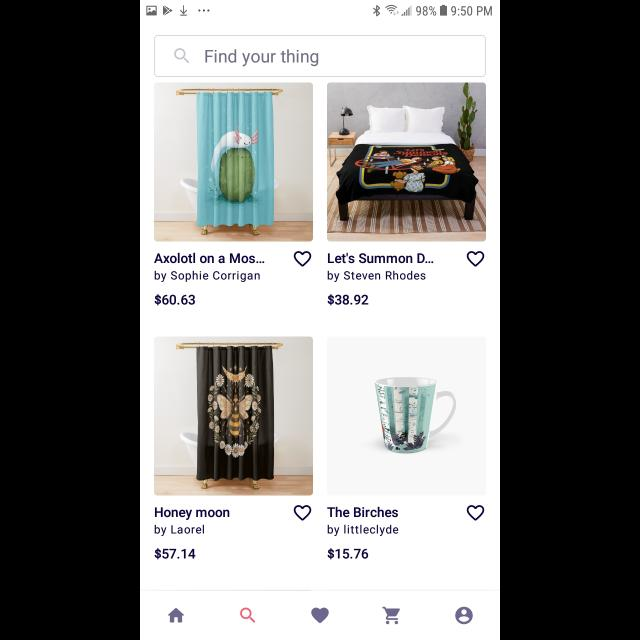icon: (382, 606, 400, 624), (455, 607, 473, 625), (294, 505, 312, 521), (294, 251, 312, 267), (311, 607, 329, 623), (174, 48, 190, 64), (468, 506, 484, 520), (468, 252, 484, 266), (168, 608, 184, 622), (240, 608, 256, 622)
image: (154, 336, 314, 496), (326, 336, 486, 496), (326, 82, 486, 242), (154, 82, 314, 242)
input: (154, 35, 486, 77)
text: (328, 253, 434, 283), (155, 254, 265, 282), (154, 508, 230, 536), (328, 507, 398, 537), (205, 49, 319, 67), (154, 294, 196, 306), (155, 548, 195, 560), (328, 548, 368, 560), (328, 294, 368, 306)
uppertaskbar: (140, 1, 500, 17)
